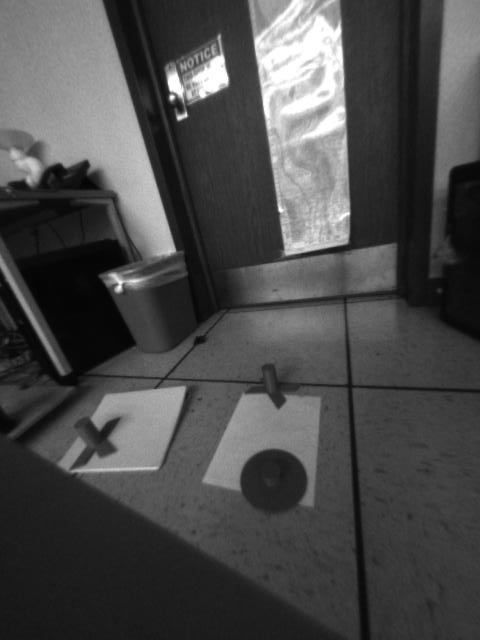X: (69, 413, 122, 471), (242, 363, 303, 407)
